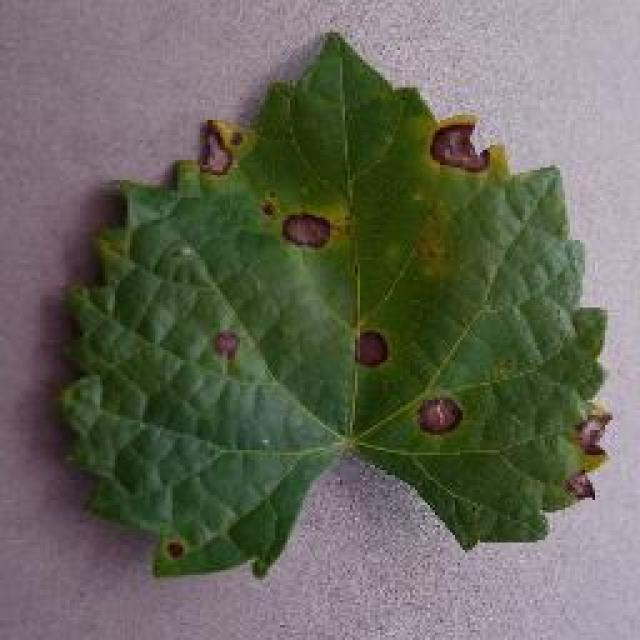Grape___Black_rot: (46, 29, 621, 588)
